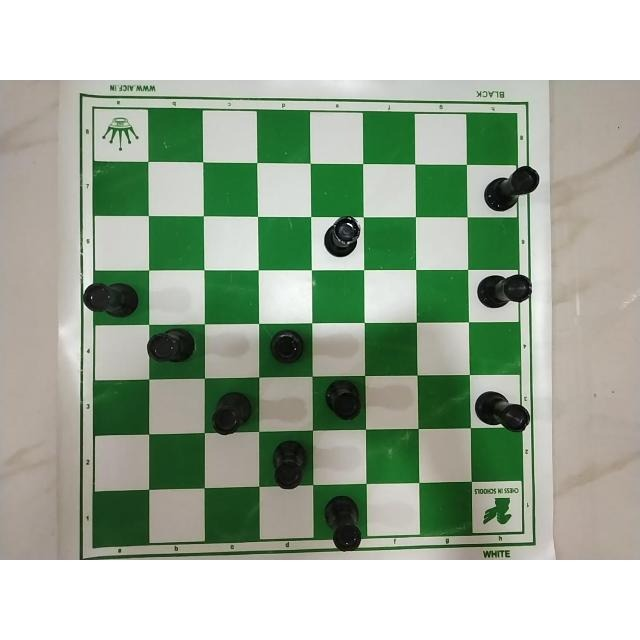black-rook: (481, 164, 541, 214), (471, 387, 530, 434), (319, 494, 365, 554), (80, 278, 139, 321), (472, 270, 531, 313), (267, 436, 309, 493), (207, 389, 255, 437), (146, 327, 198, 367), (320, 377, 364, 423), (322, 212, 362, 258), (267, 328, 306, 368)
